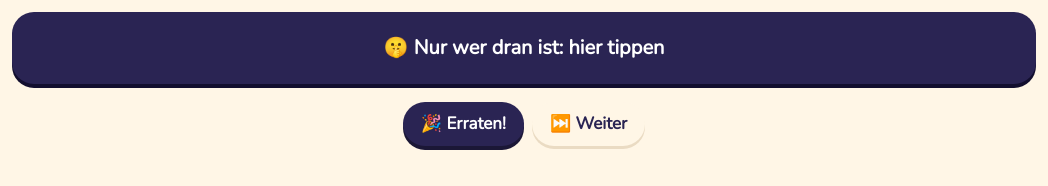
it: Begriff-Stapel › Teekesselchen zeigt beide Bedeutungen zusammen mit dem Wort
The width and height of the screenshot is (1048, 186).
Click the button "🤫 Nur wer dran ist: hier tippen": x=524, y=48 12,12 -> 1036,84
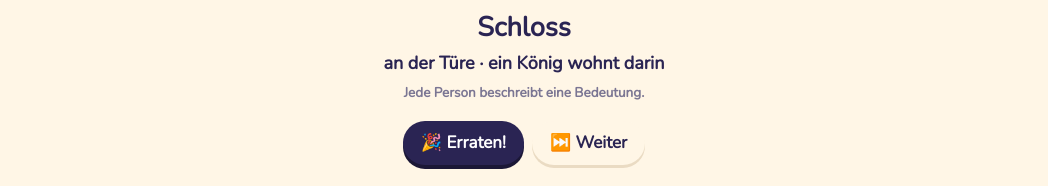
Result: the text "an der Türe · ein König wohnt darin" is shown at 384,51 -> 665,76
